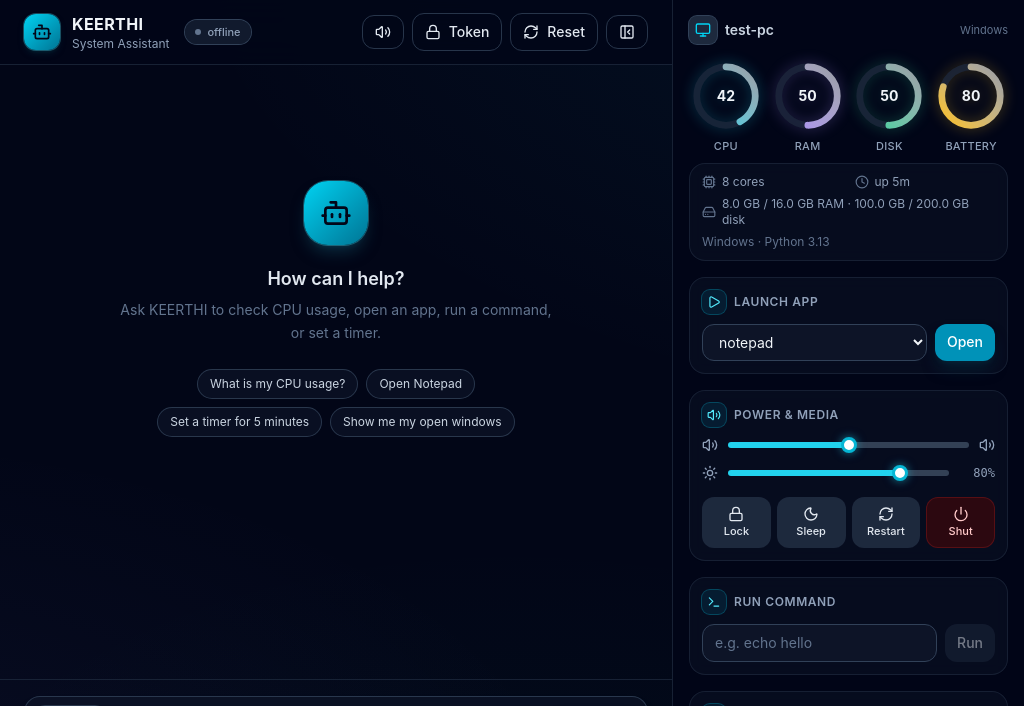
Test case: App › opens an app via /api/action
Click the button with aria-label "Open selected app": (965, 342) [935,324,995,360]
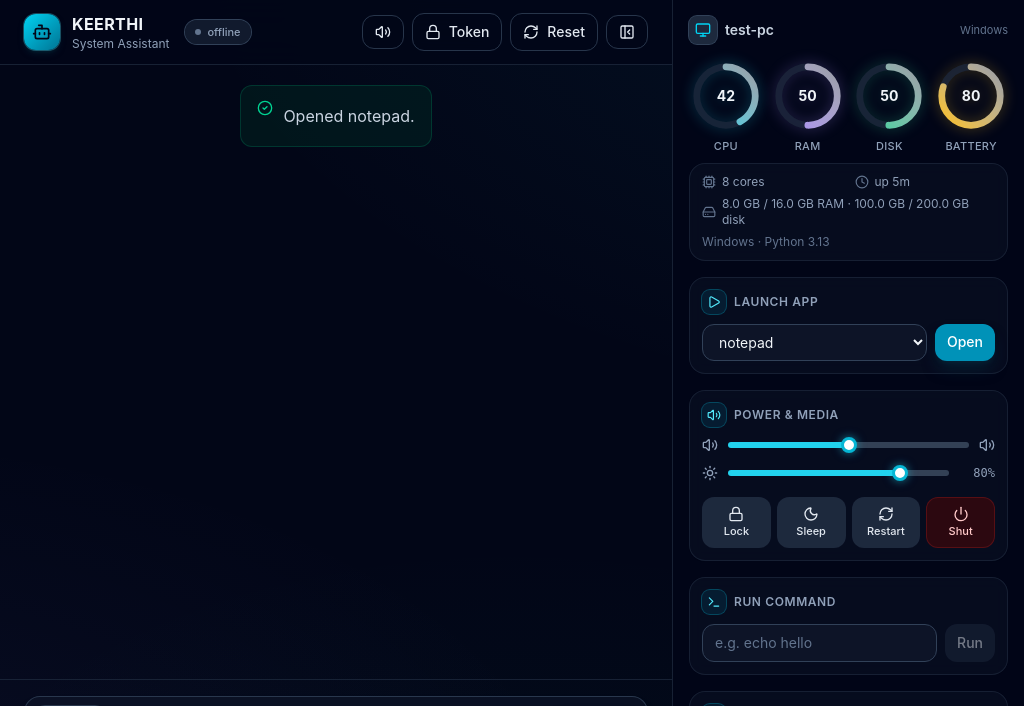
Now the text "Opened notepad." is shown, box [283,102,415,130]
